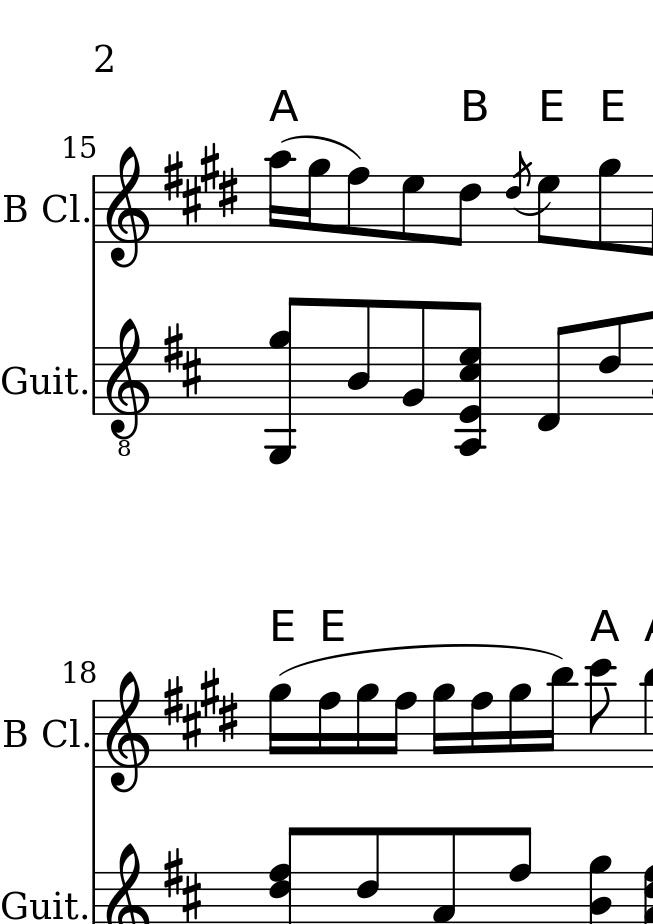1: (62, 135, 75, 160), (63, 659, 75, 685)
16_10: (266, 150, 294, 244)
16_11: (540, 666, 576, 769)
16_8: (386, 691, 418, 769), (314, 690, 343, 769), (468, 692, 494, 769)
16_9: (352, 681, 381, 771), (429, 681, 457, 769), (505, 681, 532, 771), (265, 683, 292, 769)
2: (92, 43, 115, 73)
5: (80, 133, 96, 159)
8: (78, 658, 97, 685)
8_-1: (533, 323, 573, 432)
8_-5_9: (265, 295, 304, 465)
8_12: (585, 658, 618, 769)
8_2: (400, 298, 428, 418)
8_4: (346, 297, 372, 417)
8_6: (596, 315, 625, 415), (447, 174, 483, 248)
8_7: (535, 174, 561, 248), (400, 174, 425, 245)
8_8: (346, 166, 372, 245)
8_9: (298, 158, 332, 244), (594, 157, 623, 253)
Acciaccature: (503, 153, 531, 246)
Cl: (40, 713, 83, 757), (39, 187, 83, 226)
D_S: (159, 846, 201, 922), (162, 323, 204, 396)
E_S: (162, 139, 239, 230), (159, 668, 240, 749)
Gclef: (104, 144, 154, 268), (105, 669, 151, 796)
Guit: (1, 356, 80, 403), (1, 886, 78, 919)
Lower_Gclef: (102, 317, 151, 458)
Single_barline: (88, 346, 101, 417), (88, 697, 100, 769), (88, 174, 100, 244), (88, 872, 100, 924)
Slur: (276, 642, 564, 674), (281, 132, 364, 163)
